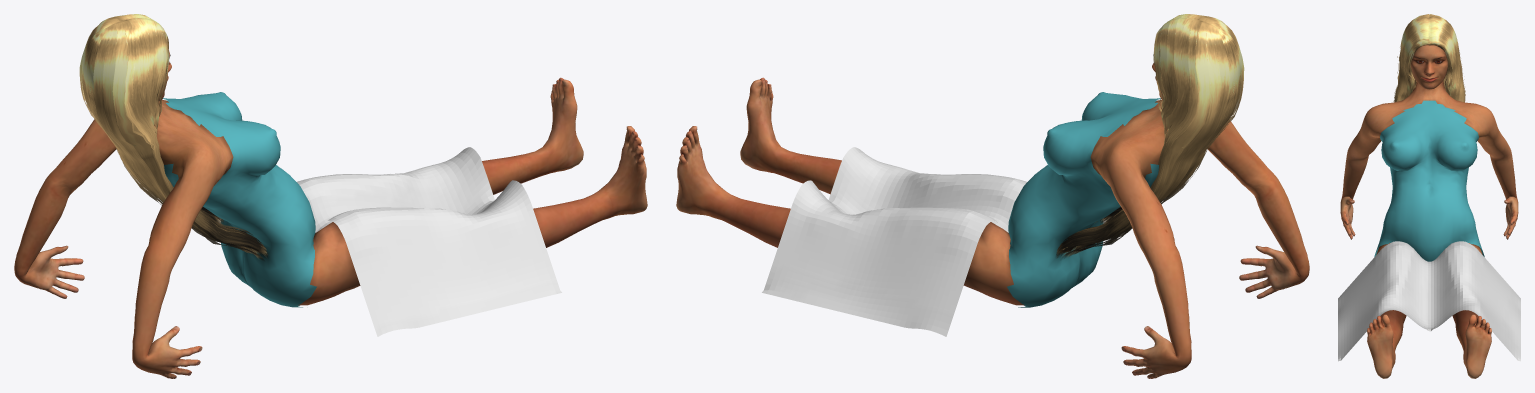
File: kundin_up_k8.glb
The picture shows the model from 3 angles, left to right: view 1: azimuth 30°, elevation 25°; view 2: azimuth 150°, elevation 25°; view 3: azimuth 270°, elevation 25°; orthographic projection. The views are drawn at different scales.
Visible parts, largest first — view 1: body, robe, top, hair; view 2: robe, body, top, hair; view 3: robe, top, body, hair.
Part boxes in pixels (left/top/right/bottom): body: left=14, top=49, right=647, bottom=378; robe: left=297, top=147, right=561, bottom=336; top: left=163, top=92, right=316, bottom=307; hair: left=79, top=14, right=268, bottom=260; robe: left=762, top=147, right=1026, bottom=336; body: left=676, top=63, right=1309, bottom=378; top: left=1007, top=92, right=1160, bottom=307; hair: left=1056, top=14, right=1244, bottom=258; robe: left=1338, top=241, right=1520, bottom=361; top: left=1374, top=100, right=1484, bottom=261; body: left=1340, top=45, right=1518, bottom=378; hair: left=1393, top=14, right=1465, bottom=102.
Size of the model in its own units: 1.46 by 0.8242 by 0.62.
Materials: 6 (5 with a texture image).
